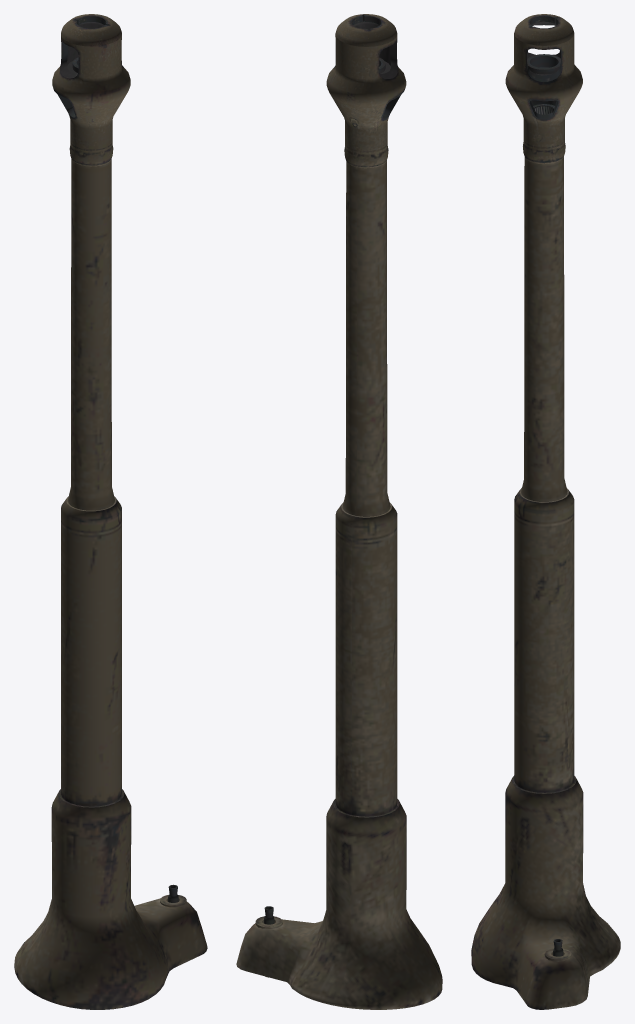
File: Gun_01.glb
3 renders of one model, left to right at view 1: azimuth 30°, elevation 25°; view 2: azimuth 150°, elevation 25°; view 3: azimuth 270°, elevation 25°, orthographic. The views are drawn at different scales.
Visible parts, largest first — view 1: set_0_group_0; view 2: set_0_group_0; view 3: set_0_group_0.
Part boxes in pixels (left/top/right/bottom): set_0_group_0: left=14, top=14, right=207, bottom=1009; set_0_group_0: left=236, top=14, right=442, bottom=1009; set_0_group_0: left=471, top=14, right=620, bottom=1009.
Size of the model in its own units: 0.812 by 4.12 by 0.591.
1 material, 1 textured.
